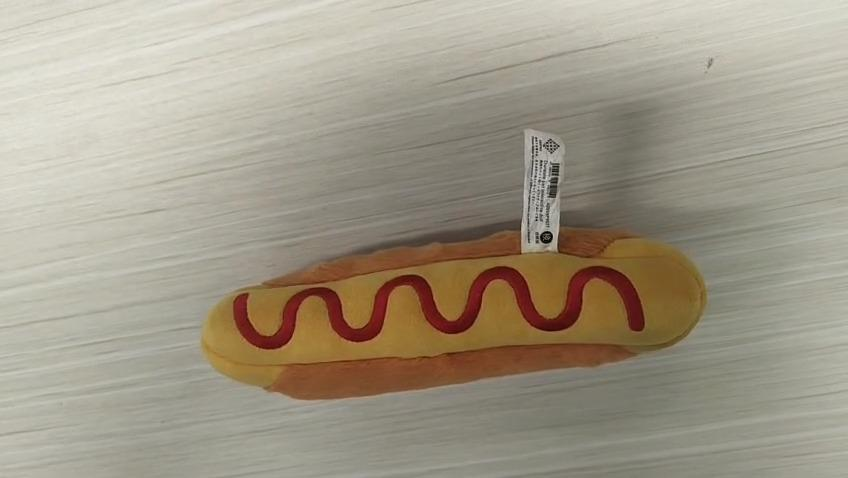hotdog: (200, 224, 707, 401)
